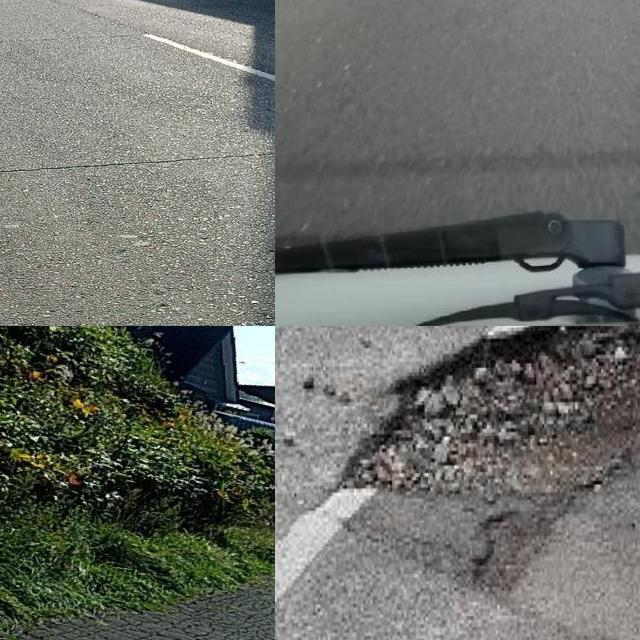Lubang: (346, 326, 640, 600)
Melintang: (0, 137, 275, 184)
